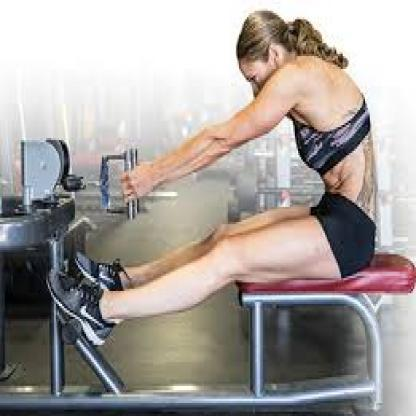Seated Cable Rows: (2, 10, 413, 416)
